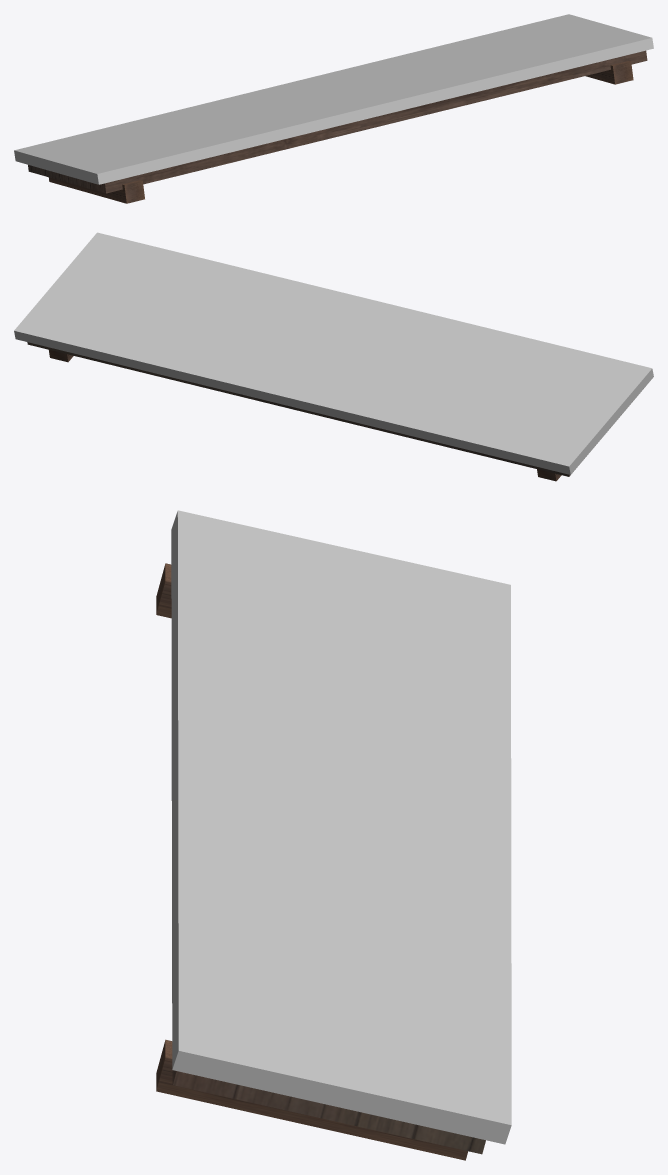
Rendered from jovhouse_sunshade01aa.fbx.
3 views of the same model, one above another, from view 1: azimuth 30°, elevation 25°; view 2: azimuth 150°, elevation 25°; view 3: azimuth 270°, elevation 25° (orthographic). The views are drawn at different scales.
Visible parts, largest first — view 1: jovhouse_sunshade01aa; view 2: jovhouse_sunshade01aa; view 3: jovhouse_sunshade01aa.
Part boxes in pixels (bbox=[...]): jovhouse_sunshade01aa: bbox=[14, 14, 653, 203]; jovhouse_sunshade01aa: bbox=[14, 232, 653, 481]; jovhouse_sunshade01aa: bbox=[156, 510, 511, 1160].
Size of the model in its own units: 358 by 41.31 by 99.42.
